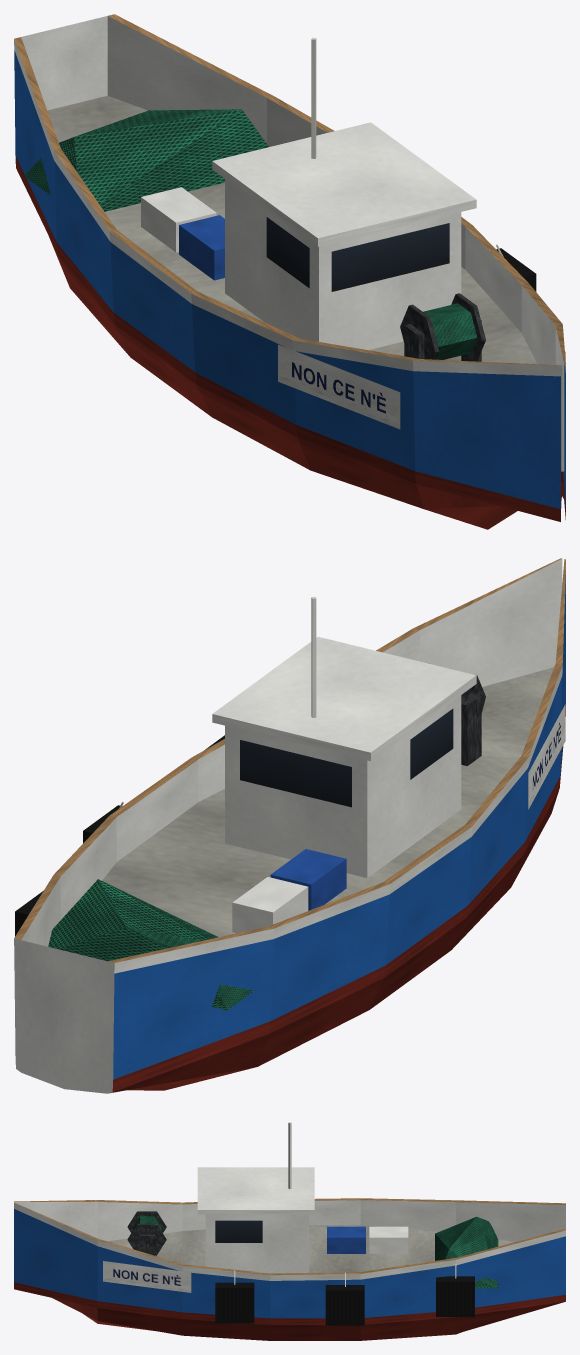
The model's file is SM_Molo_GozzoTuga_LOD2.fbx.
The picture shows the model from 3 angles, top to bottom: view 1: azimuth 30°, elevation 25°; view 2: azimuth 150°, elevation 25°; view 3: azimuth 270°, elevation 25°; orthographic projection. The views are drawn at different scales.
Parts seen in each view (by area): view 1: SM_Molo_GozzoTuga_LOD2; view 2: SM_Molo_GozzoTuga_LOD2; view 3: SM_Molo_GozzoTuga_LOD2.
Boxes of the visible parts, x1,y1,x2,y2 form: SM_Molo_GozzoTuga_LOD2: [14, 14, 565, 529]; SM_Molo_GozzoTuga_LOD2: [14, 558, 565, 1093]; SM_Molo_GozzoTuga_LOD2: [14, 1122, 565, 1340].
Size of the model in its own units: 299 by 850 by 360.
Materials: 1 (1 with a texture image).
